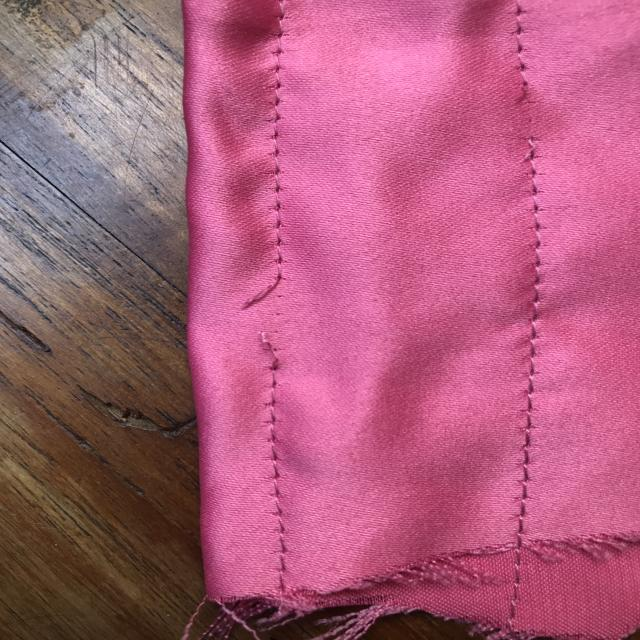broken: (218, 257, 319, 379)
